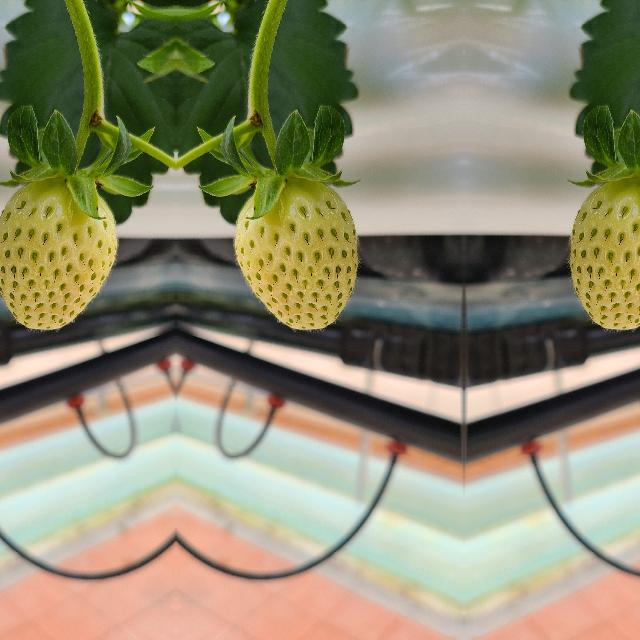Health_25: (233, 178, 357, 330), (0, 178, 117, 330), (569, 178, 640, 330)
